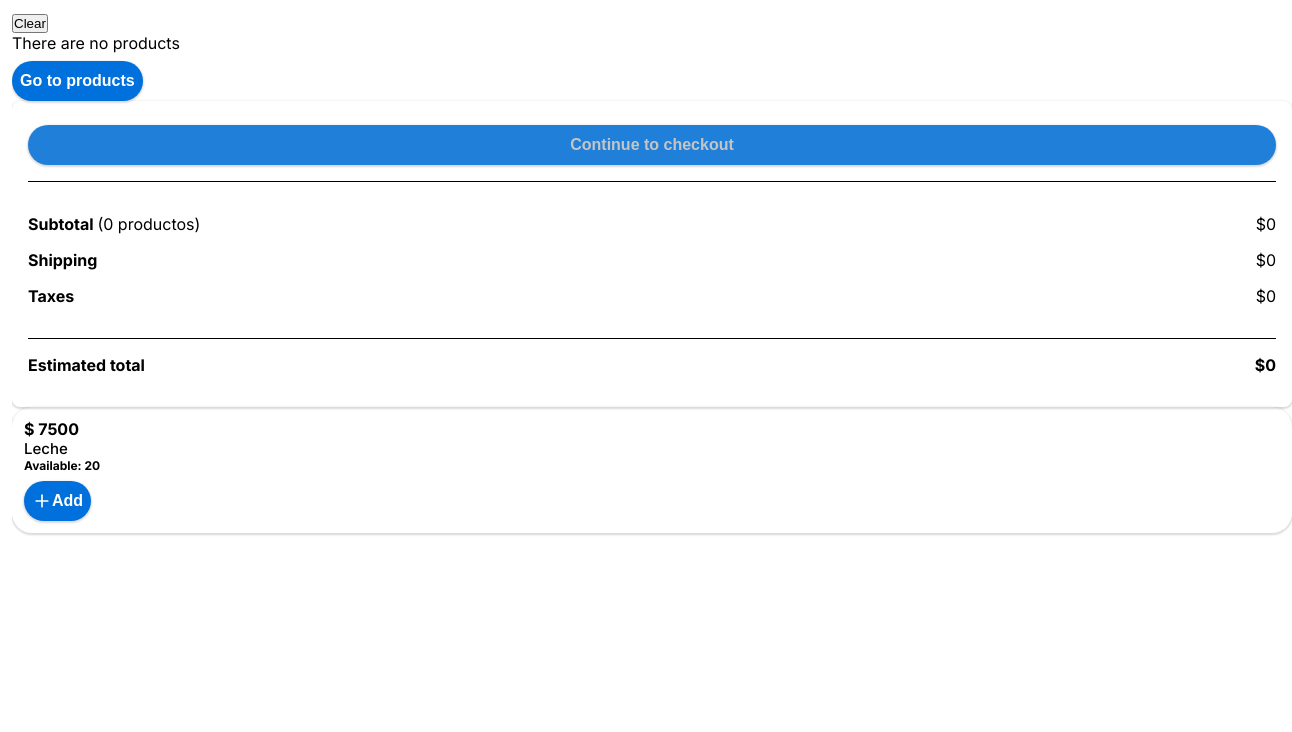
Scenario: Cart tests › clear cart
Step 1. Click the button "Add" → [58, 501], box [24, 481, 91, 521]
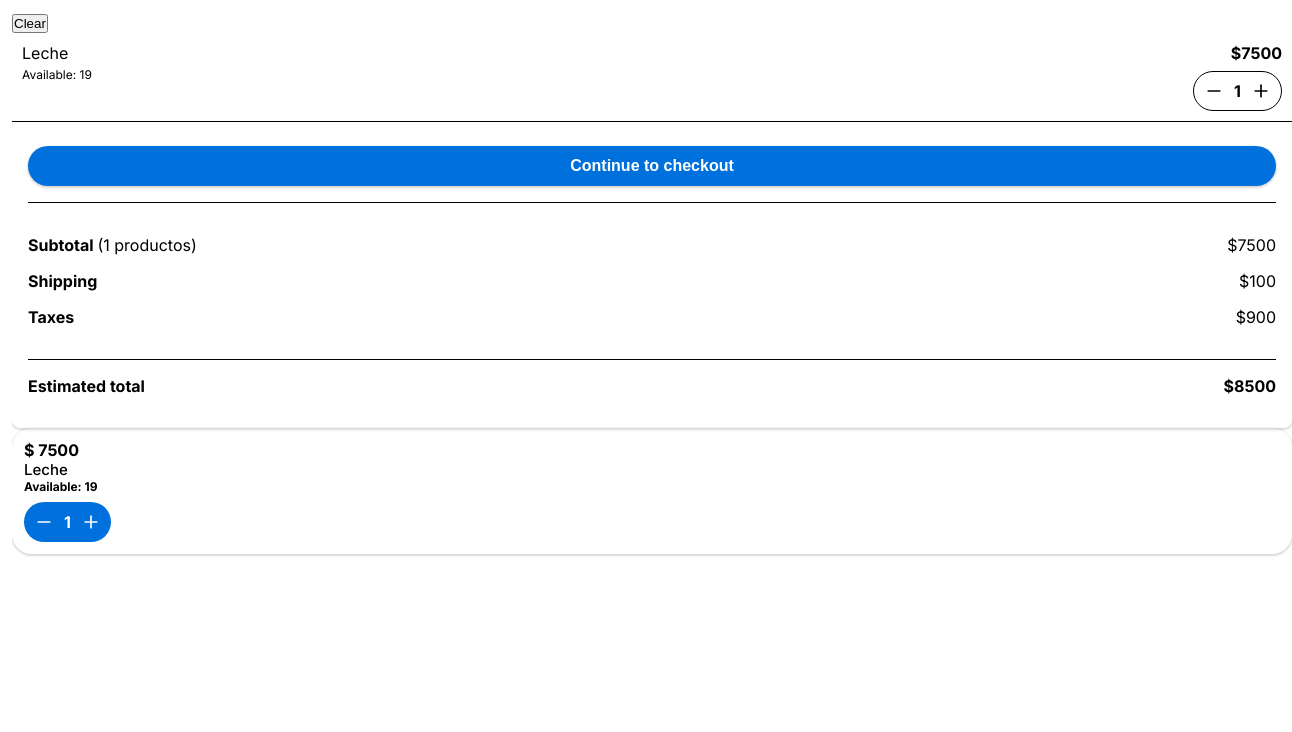
Step 2. Click the button "Clear" → [30, 24], box [12, 14, 48, 33]
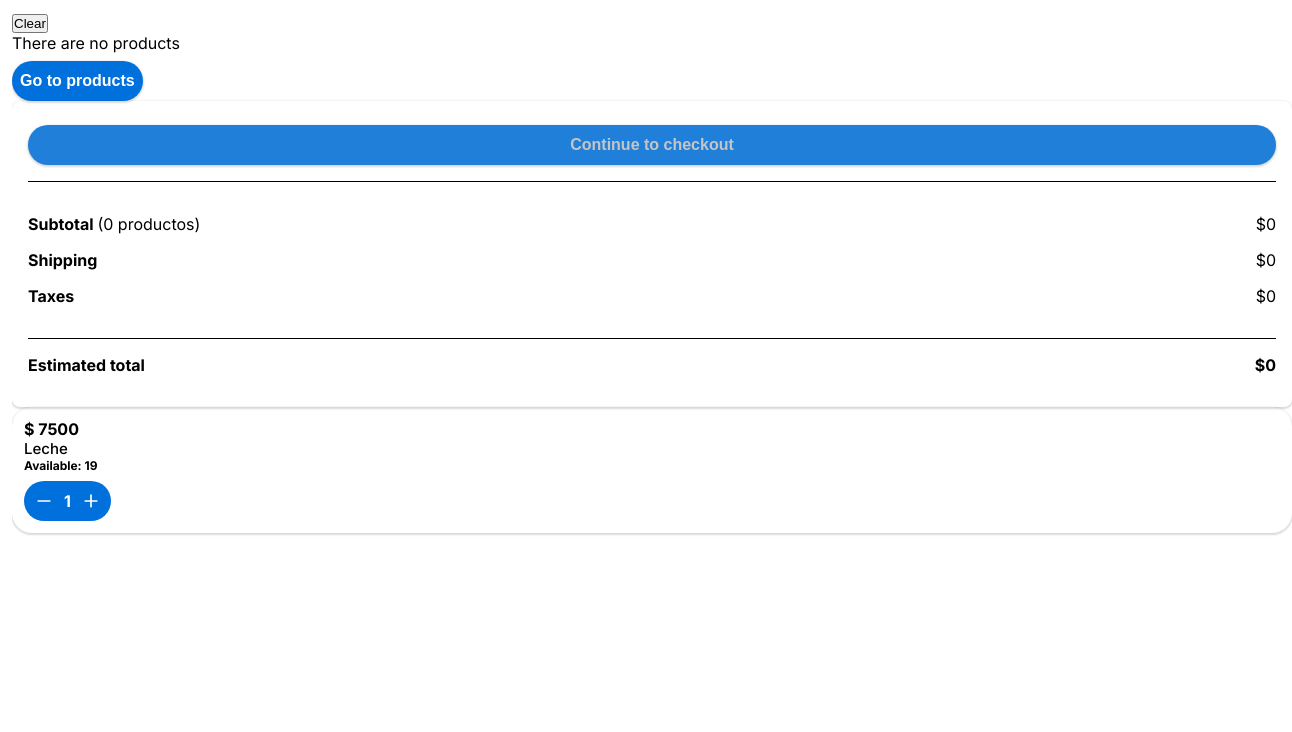
Expected: the text "There are no products" is shown, [12, 33, 180, 53]
Expected: the button "Go to products" is shown, [12, 61, 143, 101]
